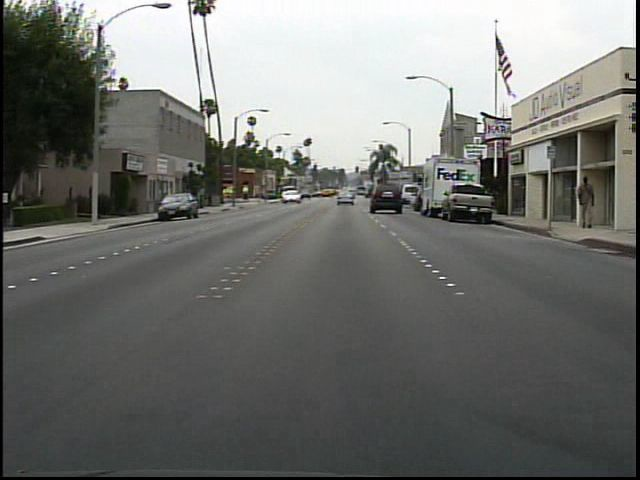person: (570, 173, 599, 232)
